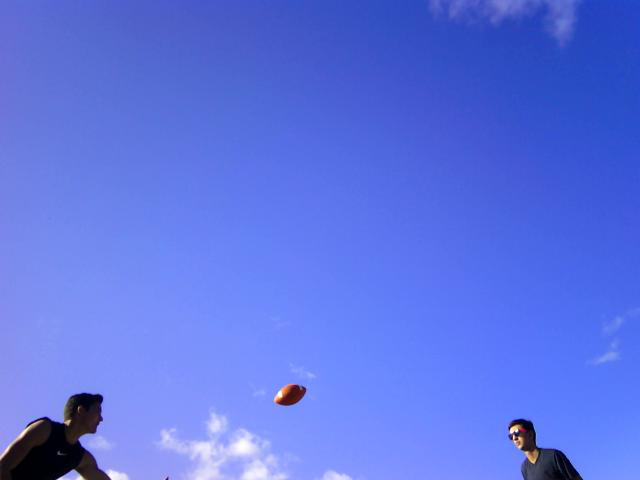football: (271, 384, 310, 409)
